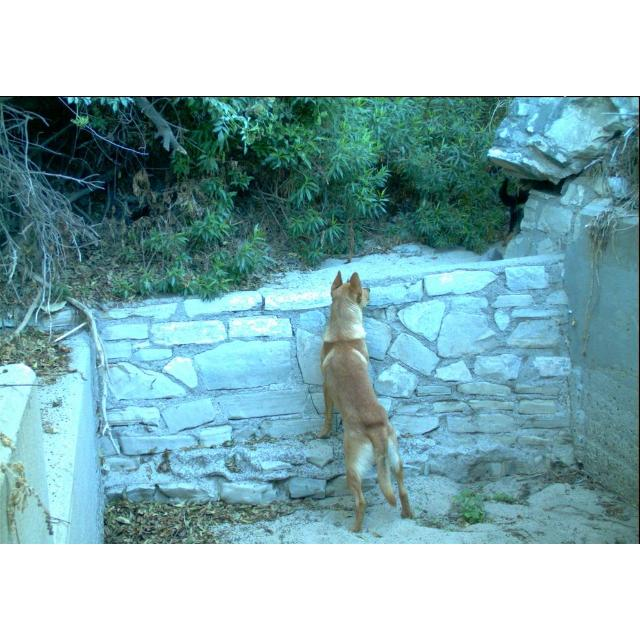animals: (312, 262, 422, 538)
